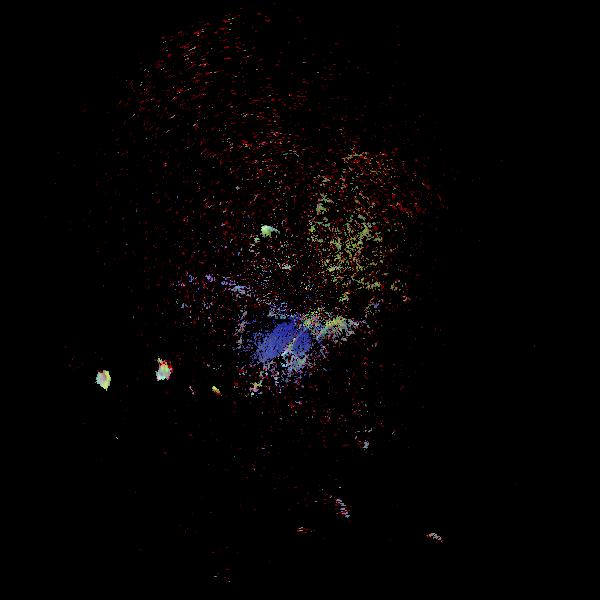roost: (411, 525, 456, 570), (147, 353, 180, 386), (91, 366, 118, 393)
